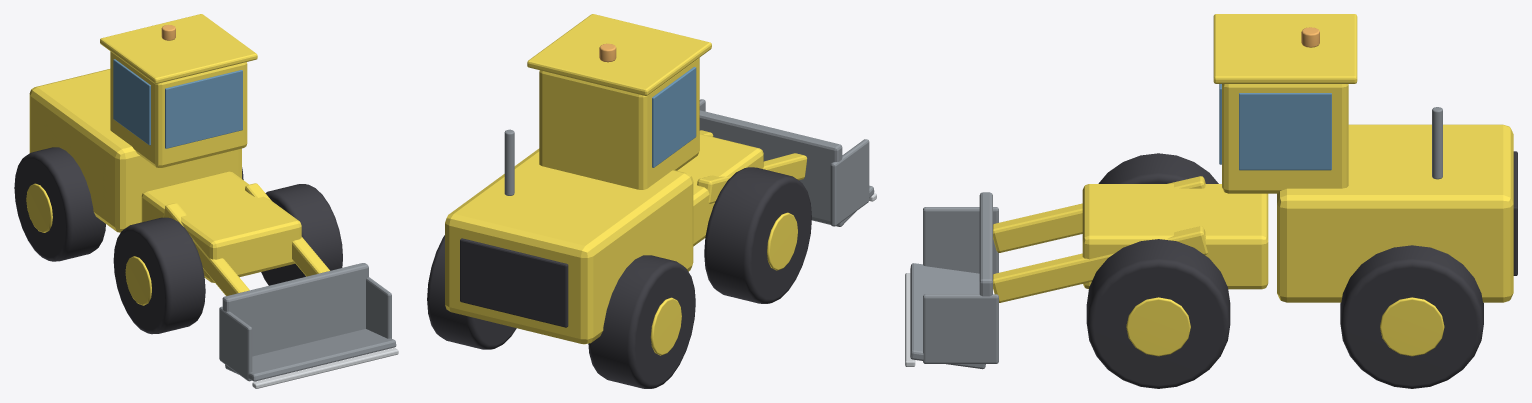
Rendered from wheel_loader.fbx.
3 renders of one model, left to right at view 1: azimuth 30°, elevation 25°; view 2: azimuth 150°, elevation 25°; view 3: azimuth 270°, elevation 25°, orthographic. The views are drawn at different scales.
Visible parts, largest first — view 1: Visual, Spin_X; view 2: Visual, Spin_X; view 3: Visual, Spin_X.
Boxes of the visible parts, x1=… form: Visual: x1=14, y1=14, x2=342, y2=334; Spin_X: x1=163, y1=183, x2=398, y2=388; Visual: x1=427, y1=14, x2=811, y2=388; Spin_X: x1=697, y1=99, x2=876, y2=226; Visual: x1=1082, y1=14, x2=1517, y2=388; Spin_X: x1=905, y1=176, x2=1207, y2=369.
Size of what is drawn, in the model's own units: 317 by 399 by 725.
